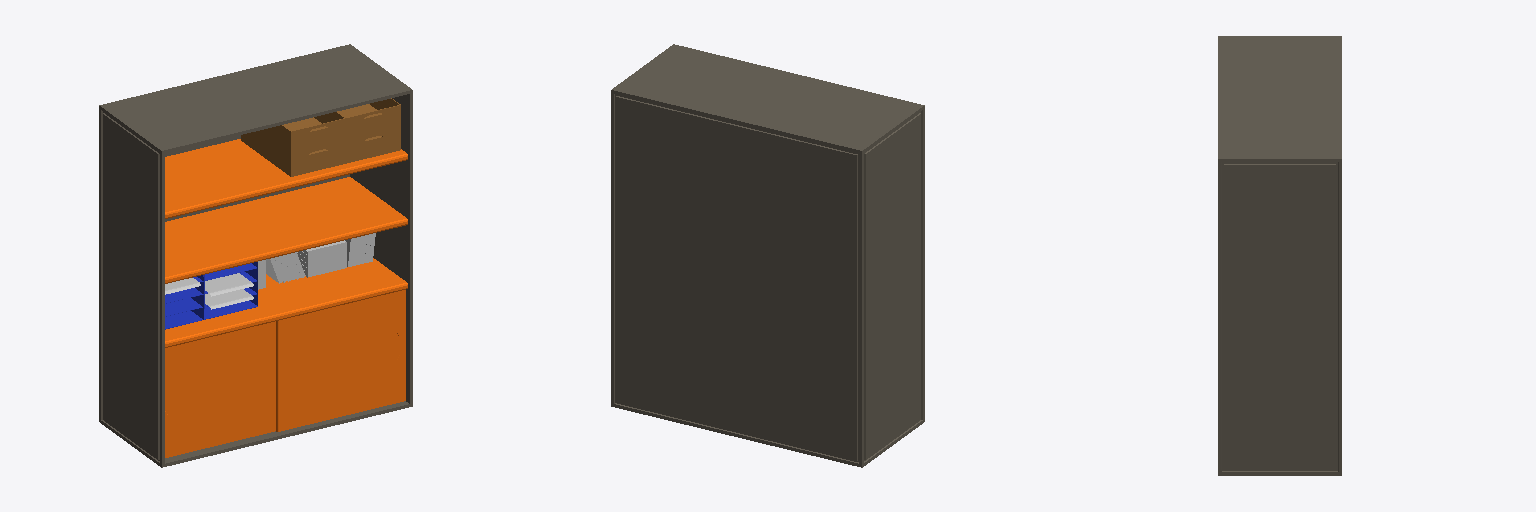
Rendered from book_shelf.obj.
3 views of the same model, side by side, from view 1: azimuth 30°, elevation 25°; view 2: azimuth 150°, elevation 25°; view 3: azimuth 270°, elevation 25° (orthographic).
Visible parts, largest first — view 1: Plane.008, Plane.009, Plane.010, Plane.011, Plane.013, Plane.012, Plane.014; view 2: Plane.008; view 3: Plane.008.
Boxes of the visible parts, <box> form: Plane.008: <box>99,44,412,467</box>; Plane.009: <box>165,139,407,347</box>; Plane.010: <box>165,290,405,457</box>; Plane.011: <box>241,98,400,176</box>; Plane.013: <box>258,233,375,289</box>; Plane.012: <box>165,262,257,329</box>; Plane.014: <box>165,273,253,309</box>; Plane.008: <box>611,44,924,467</box>; Plane.008: <box>1218,36,1341,475</box>.
Size of the model in its own units: 5.8 by 6.99 by 2.5.